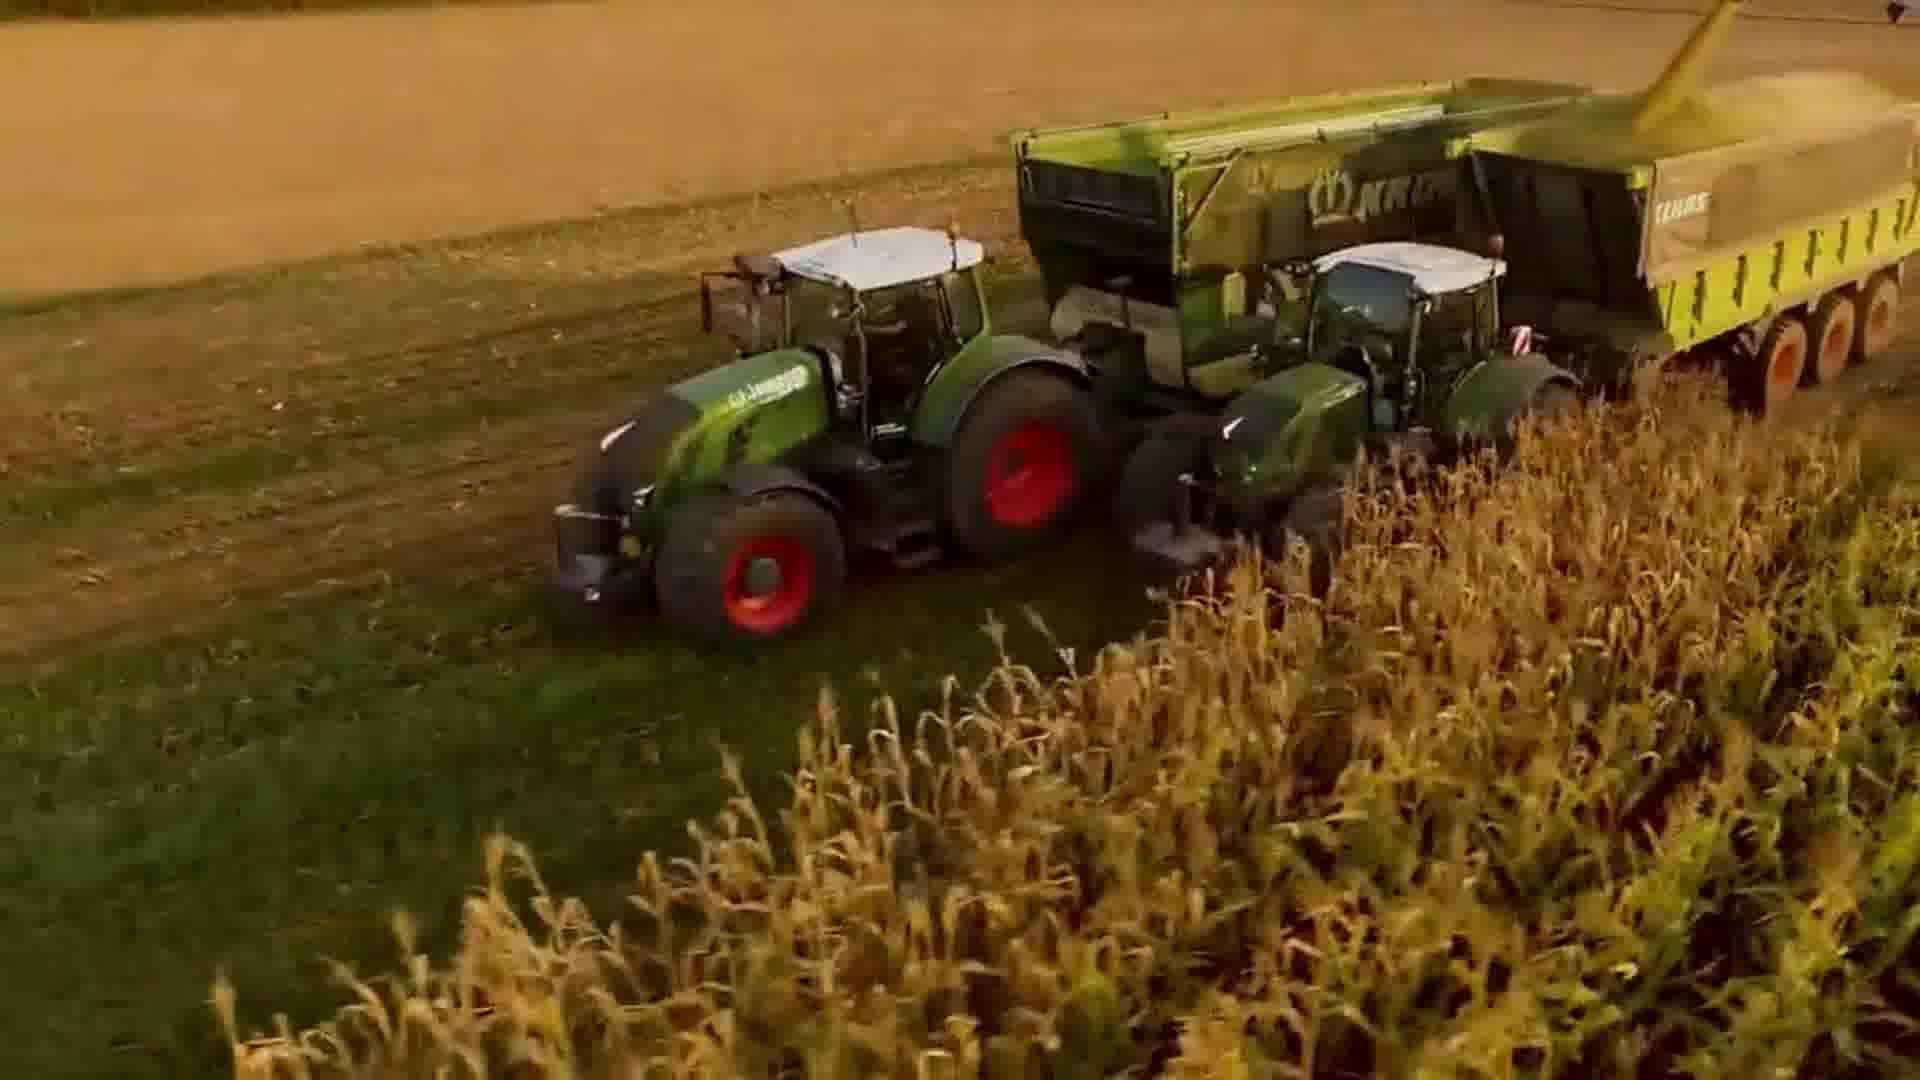tractor: (543, 210, 1116, 650), (1113, 229, 1592, 611)
trailer: (1457, 70, 1920, 440), (1010, 61, 1589, 269)
